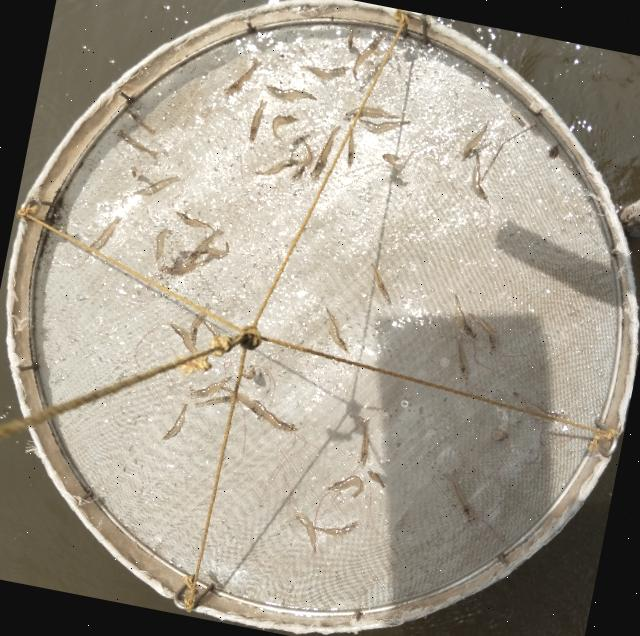shrimp: (443, 471, 475, 526), (309, 125, 341, 179), (352, 31, 385, 81), (221, 57, 261, 95), (222, 388, 263, 420), (117, 131, 158, 161), (88, 216, 121, 251), (255, 403, 296, 431), (168, 323, 200, 358), (468, 314, 496, 352), (326, 308, 349, 354), (454, 295, 477, 341), (461, 125, 488, 162), (162, 403, 187, 441), (188, 376, 232, 397), (291, 137, 312, 180), (134, 177, 180, 196), (159, 258, 210, 275), (193, 229, 223, 257), (325, 476, 362, 498), (472, 155, 488, 205), (343, 107, 399, 121), (295, 515, 315, 554), (249, 100, 267, 142), (371, 264, 389, 303), (126, 109, 154, 134), (266, 85, 316, 99), (190, 305, 207, 346), (453, 336, 467, 384), (359, 119, 410, 132), (272, 116, 297, 141), (299, 66, 351, 78), (254, 161, 298, 175), (357, 417, 369, 468), (312, 523, 357, 536), (195, 396, 236, 408), (176, 213, 208, 228), (193, 243, 229, 256), (156, 230, 171, 261), (346, 125, 355, 165)
